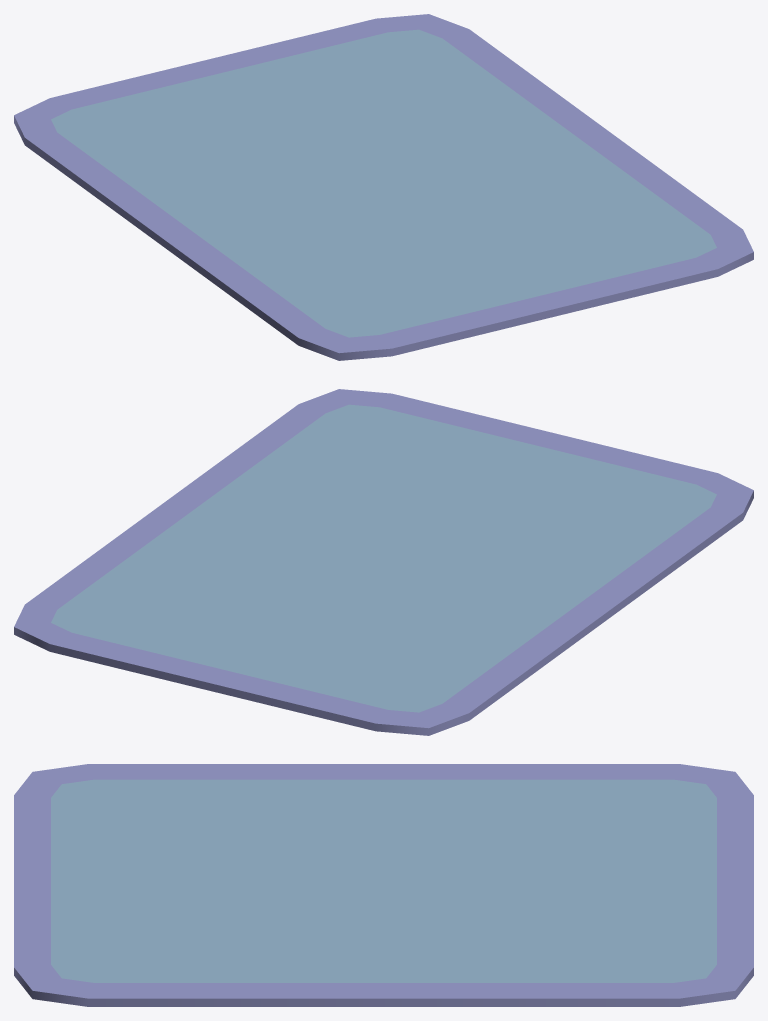
The model's file is carpet-rectangle-border.glb.
The picture shows the model from 3 angles, top to bottom: view 1: azimuth 30°, elevation 25°; view 2: azimuth 150°, elevation 25°; view 3: azimuth 270°, elevation 25°; orthographic projection. The views are drawn at different scales.
Parts seen in each view (by area): view 1: carpet-rectangle-border; view 2: carpet-rectangle-border; view 3: carpet-rectangle-border.
Part boxes in pixels (box(x1,y1,x2,y2)): carpet-rectangle-border: box(14, 14, 753, 360); carpet-rectangle-border: box(14, 389, 753, 735); carpet-rectangle-border: box(14, 764, 753, 1006).
Bounding box in the file's own units: 1.5 × 0.025 × 2.
